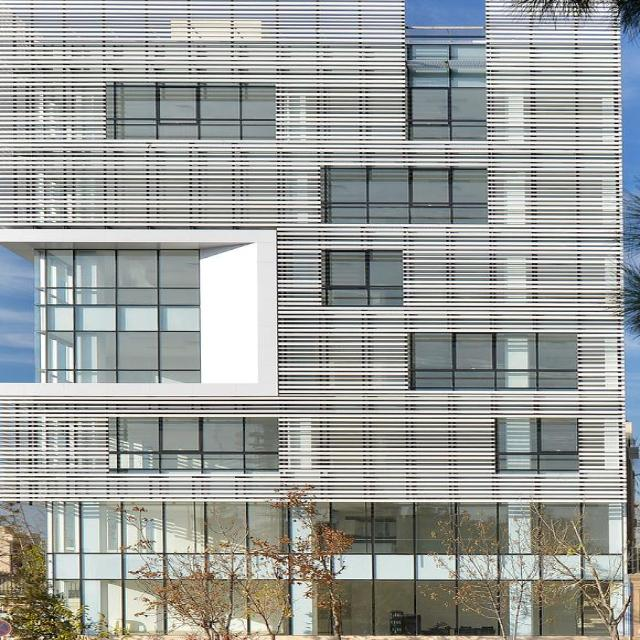window: (46, 250, 202, 380), (58, 576, 292, 636), (51, 499, 292, 553), (323, 578, 511, 637), (317, 501, 509, 551), (104, 86, 275, 140), (321, 169, 486, 222), (414, 334, 581, 386), (108, 420, 281, 467), (408, 48, 490, 140), (493, 419, 583, 476), (321, 250, 404, 310), (539, 502, 613, 559), (539, 582, 616, 636)
